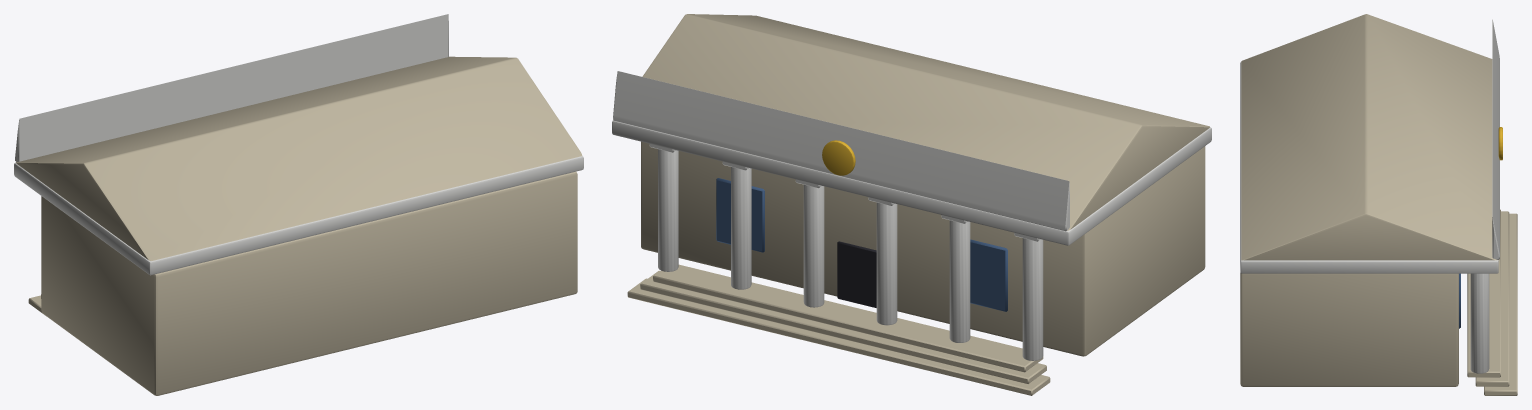
File: Poi_Bank.fbx
The picture shows the model from 3 angles, left to right: view 1: azimuth 30°, elevation 25°; view 2: azimuth 150°, elevation 25°; view 3: azimuth 270°, elevation 25°; orthographic projection. The views are drawn at different scales.
Parts seen in each view (by area): view 1: Poi_Bank; view 2: Poi_Bank; view 3: Poi_Bank.
Part boxes in pixels (x1,y1,x2,y2): Poi_Bank: (14, 14, 583, 395); Poi_Bank: (612, 14, 1211, 395); Poi_Bank: (1240, 14, 1517, 395).
Size of the model in its own units: 22.6 by 10.18 by 13.2.
